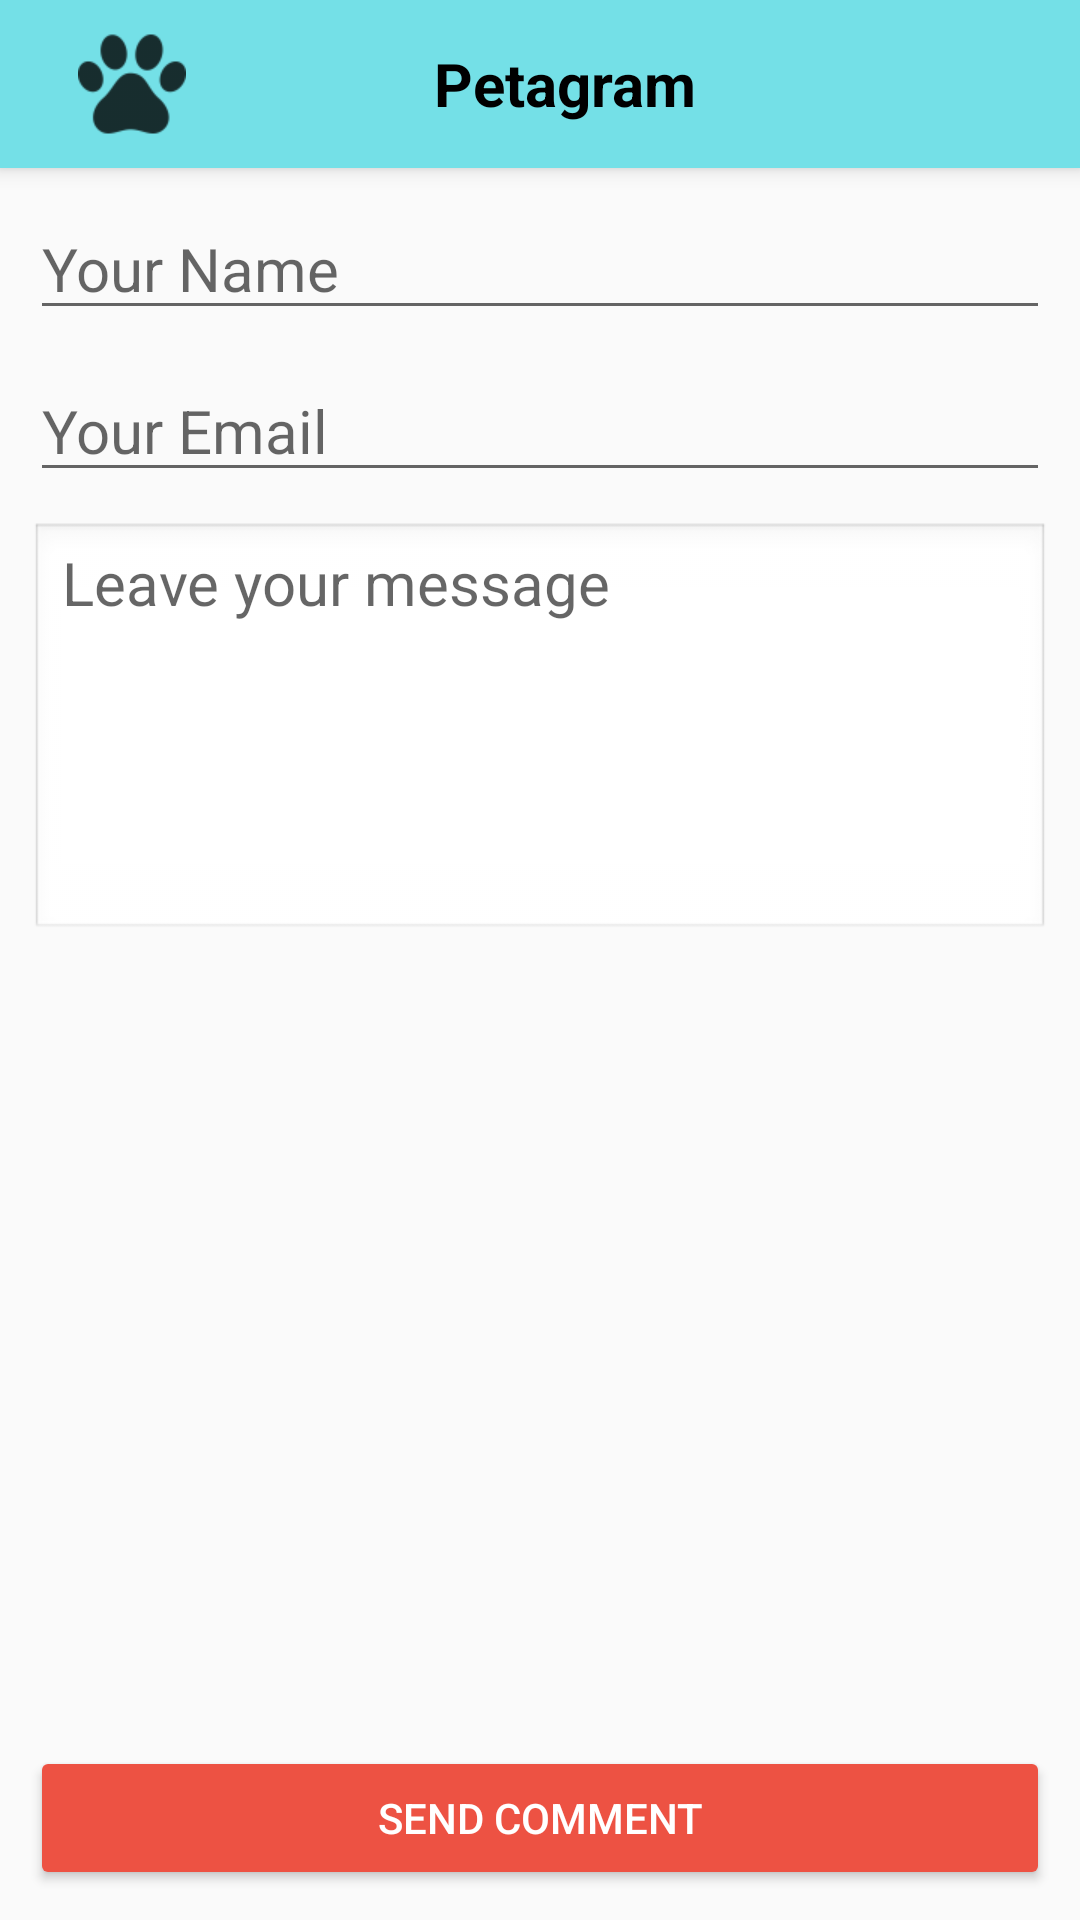

Icon click points for this 1080 × 1920 phone screenshot, format (x=x, y=y):
dog footprint: (x=132, y=84)
